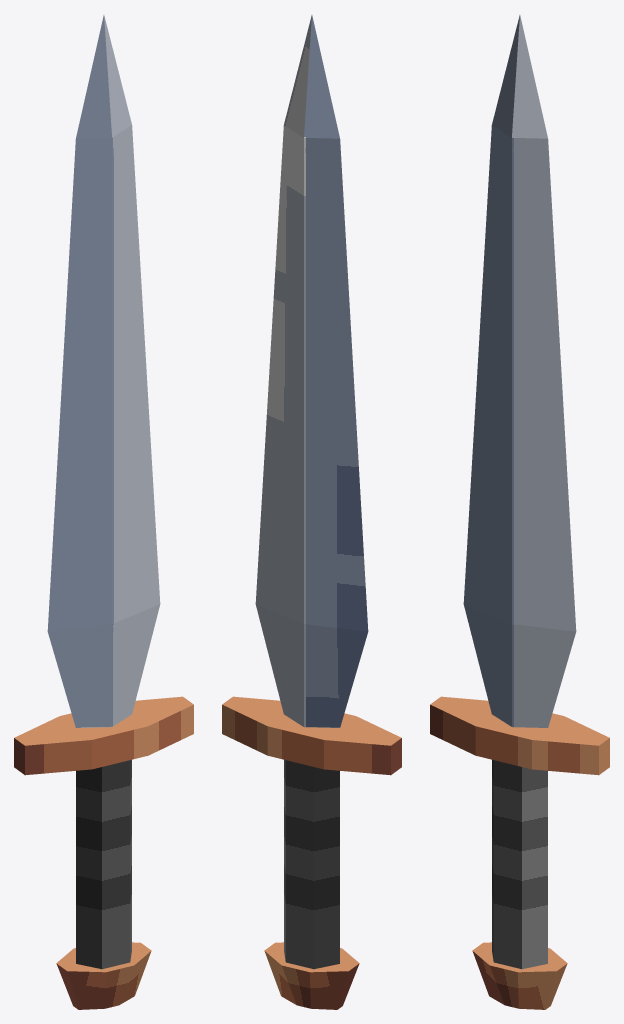
File: dagger.gltf
The picture shows the model from 3 angles, left to right: view 1: azimuth 30°, elevation 25°; view 2: azimuth 150°, elevation 25°; view 3: azimuth 330°, elevation 25°; orthographic projection.
Visible parts, largest first — view 1: cuboid (×3), cylinder; view 2: cuboid (×3), cylinder; view 3: cuboid (×3), cylinder.
Boxes of the visible parts, box(x1,y1,x2,y2) form: cuboid (×3): box(14, 15, 193, 1009); cylinder: box(76, 759, 131, 969); cuboid (×3): box(222, 15, 401, 1009); cylinder: box(284, 759, 339, 969); cuboid (×3): box(430, 15, 609, 1009); cylinder: box(492, 759, 547, 969).
Bounding box in the file's own units: 0.375 × 2.09 × 0.125.
1 material, 1 textured.
